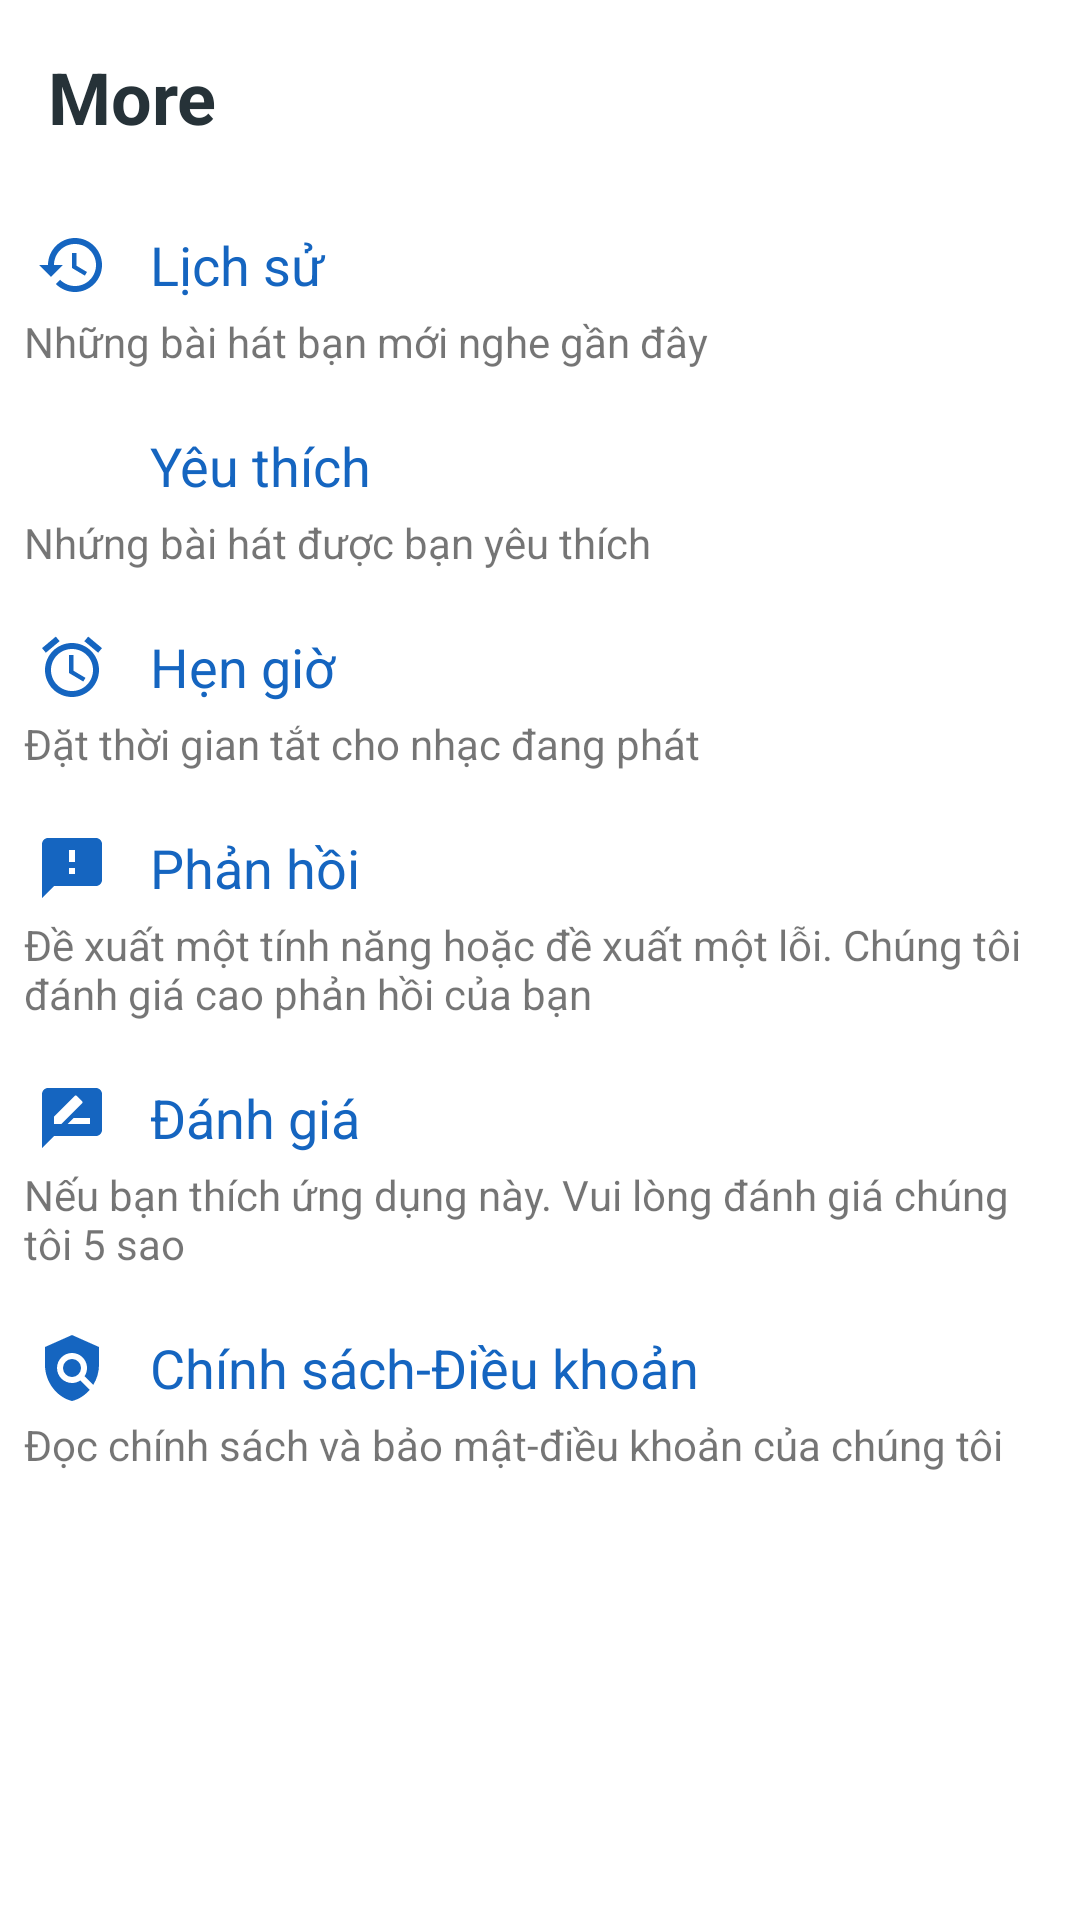

Locate icon controls on the screen. Image size 1080x1920, boxes as (x1, y1, x2, y2).
alarm: (42, 636, 102, 697)
feedback: (42, 838, 102, 898)
history: (39, 238, 102, 292)
policy: (45, 1335, 99, 1401)
rate review: (42, 1088, 102, 1148)
